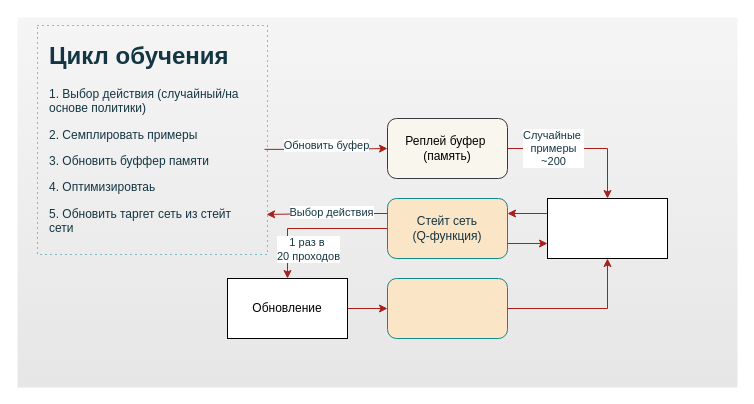
Image size: 754x404. Some labels were removed from this diagram. Each missing label, with the centre of its shape:
Оптимизация: the point at 607,228
Таргет сеть: the point at 447,308
